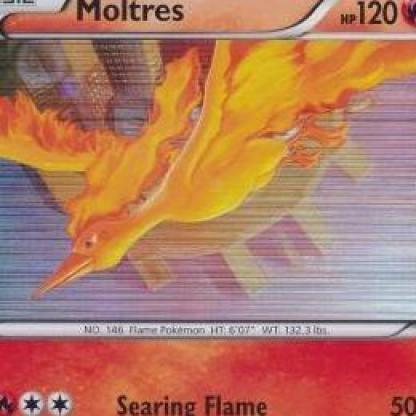Moltres: (1, 65, 416, 299)
